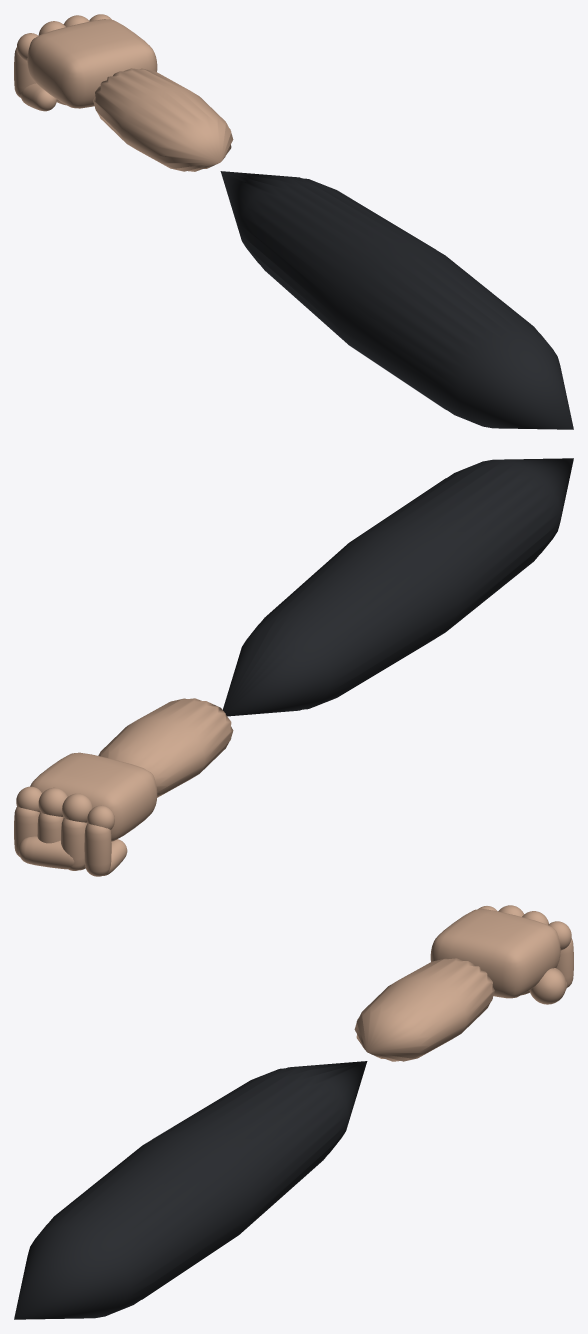
The model's file is his_fist_l.glb.
The picture shows the model from 3 angles, top to bottom: view 1: azimuth 30°, elevation 25°; view 2: azimuth 150°, elevation 25°; view 3: azimuth 330°, elevation 25°; orthographic projection.
Visible parts, largest first — view 1: his_fist_l; view 2: his_fist_l; view 3: his_fist_l.
Part boxes in pixels (<box>): his_fist_l: <box>14,14,573,429</box>; his_fist_l: <box>14,458,573,876</box>; his_fist_l: <box>14,905,573,1319</box>.
Bounding box in the file's own units: 0.1163 × 0.0955 × 0.8497.
